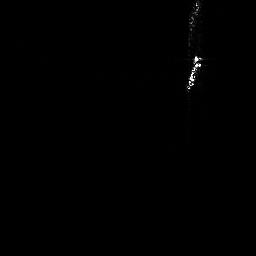ship: (186, 54, 202, 90)
